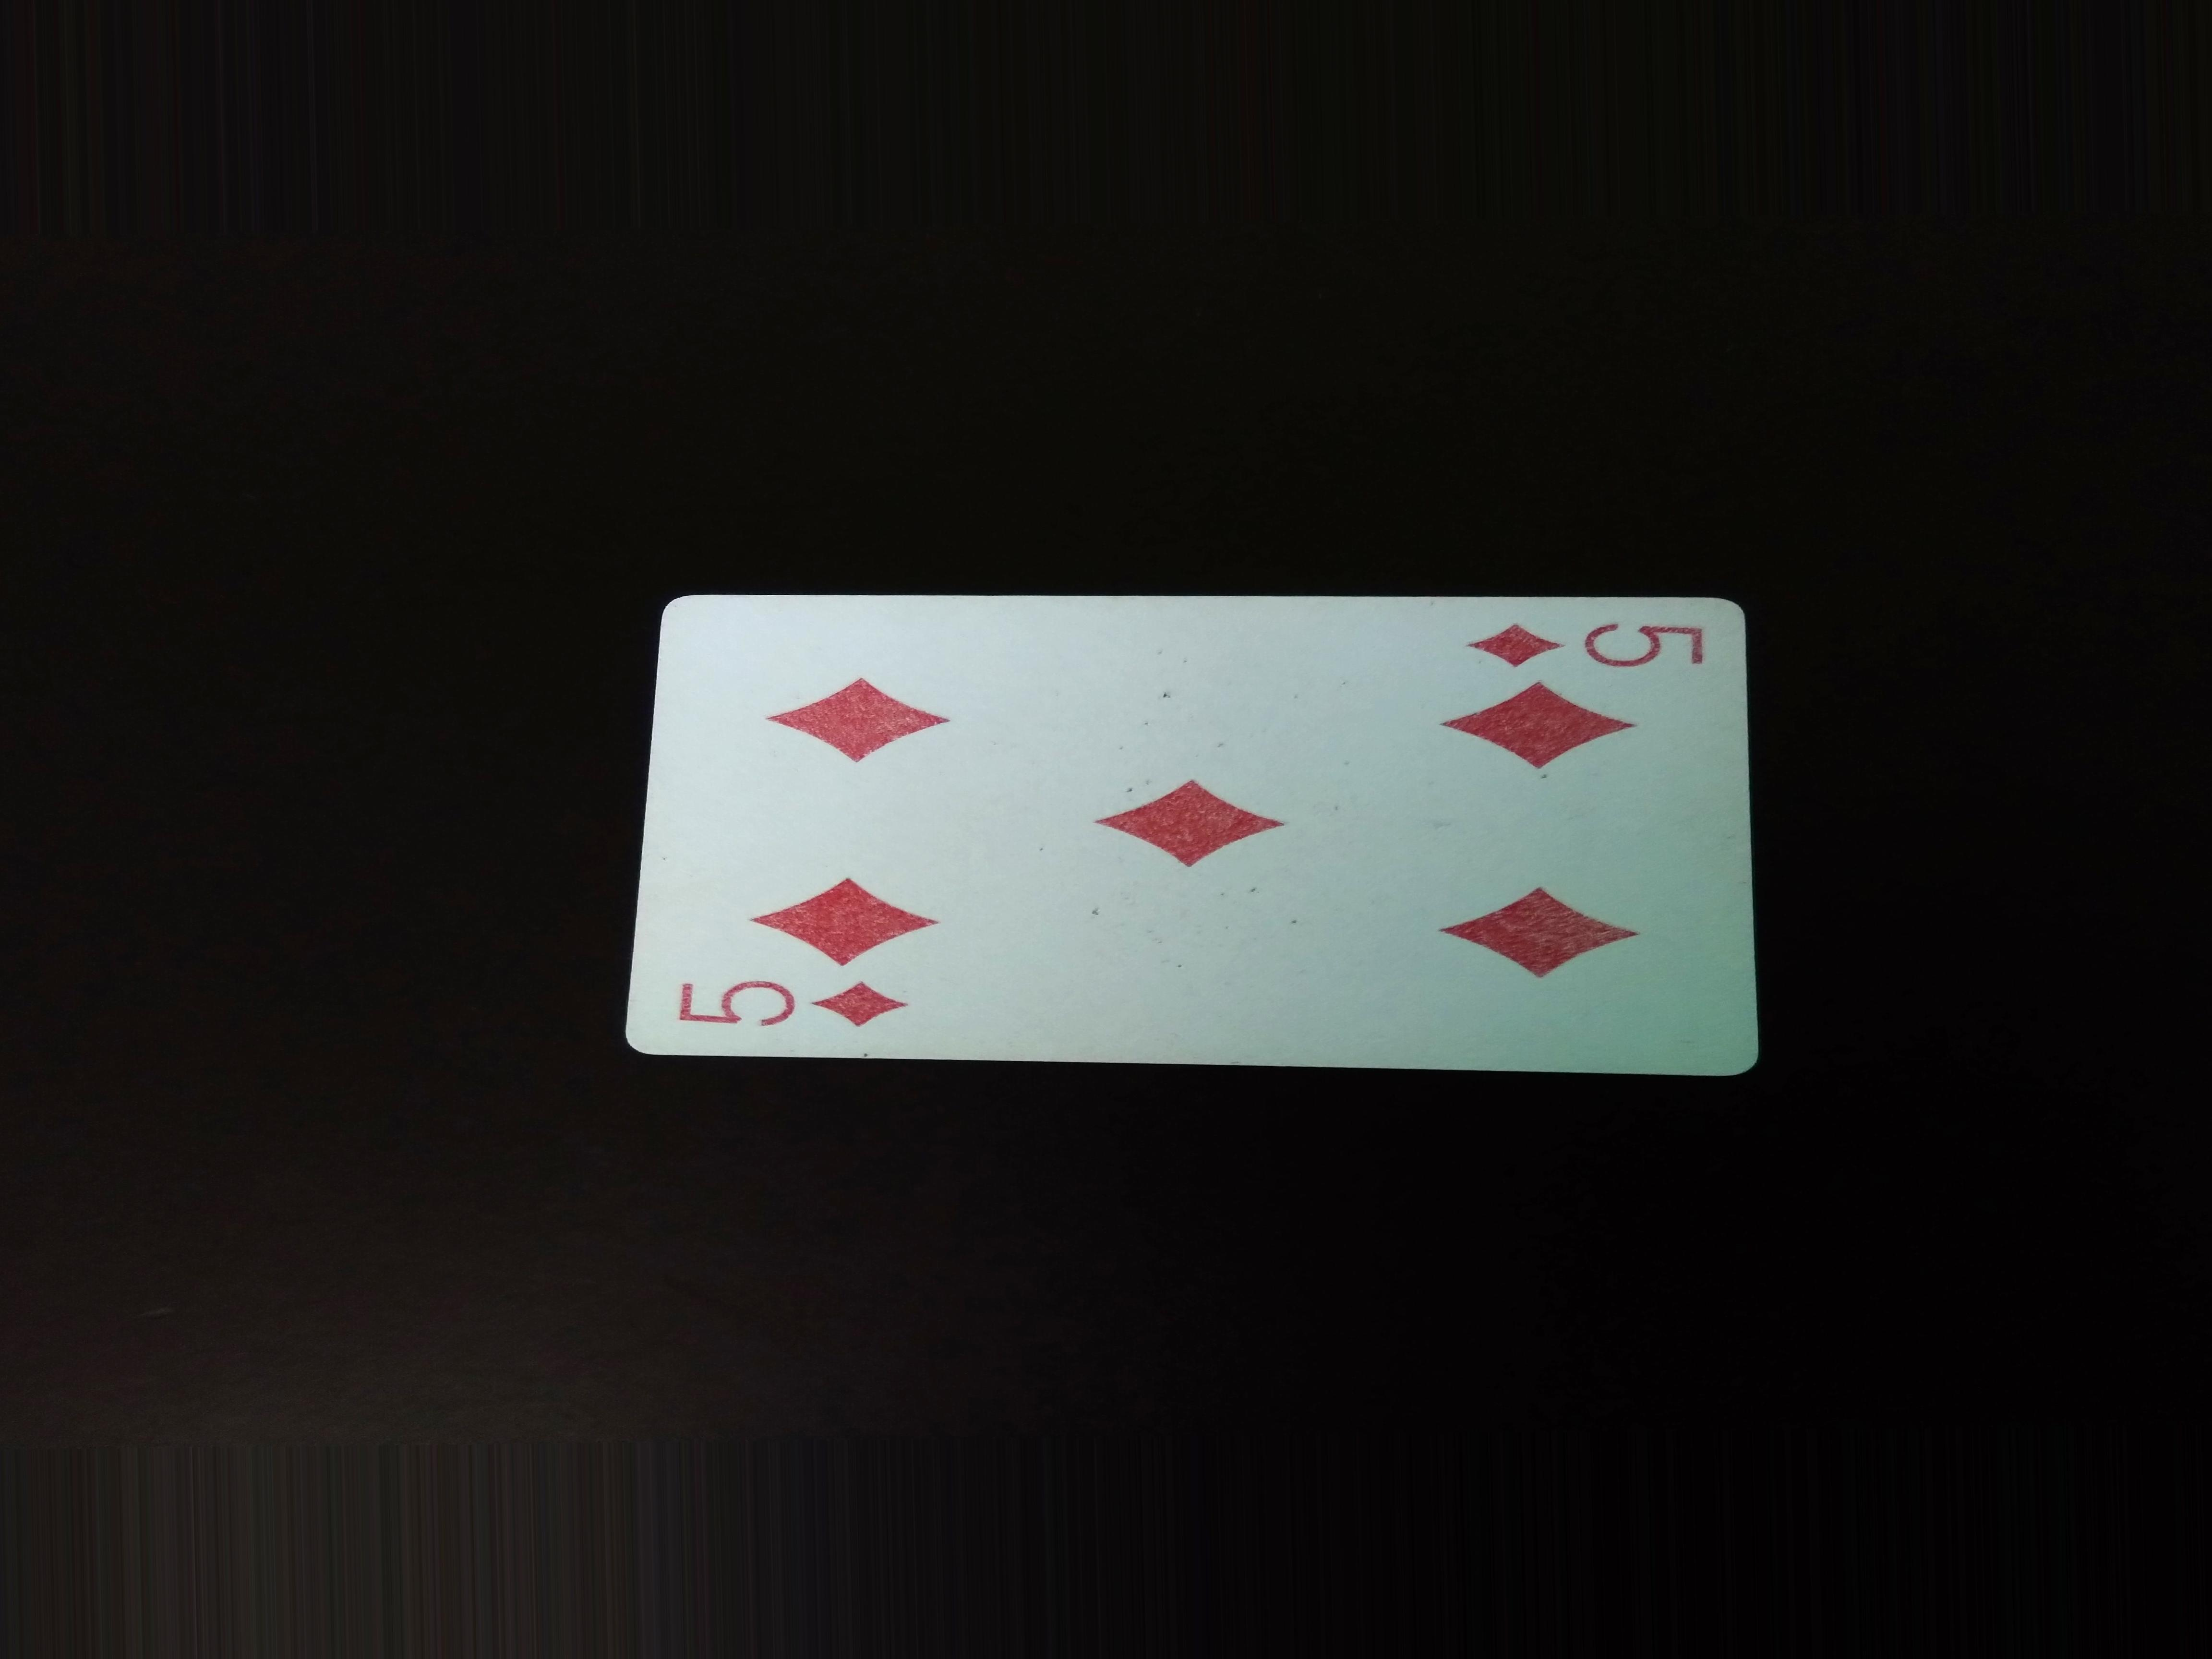5D: (625, 974, 941, 1047)
